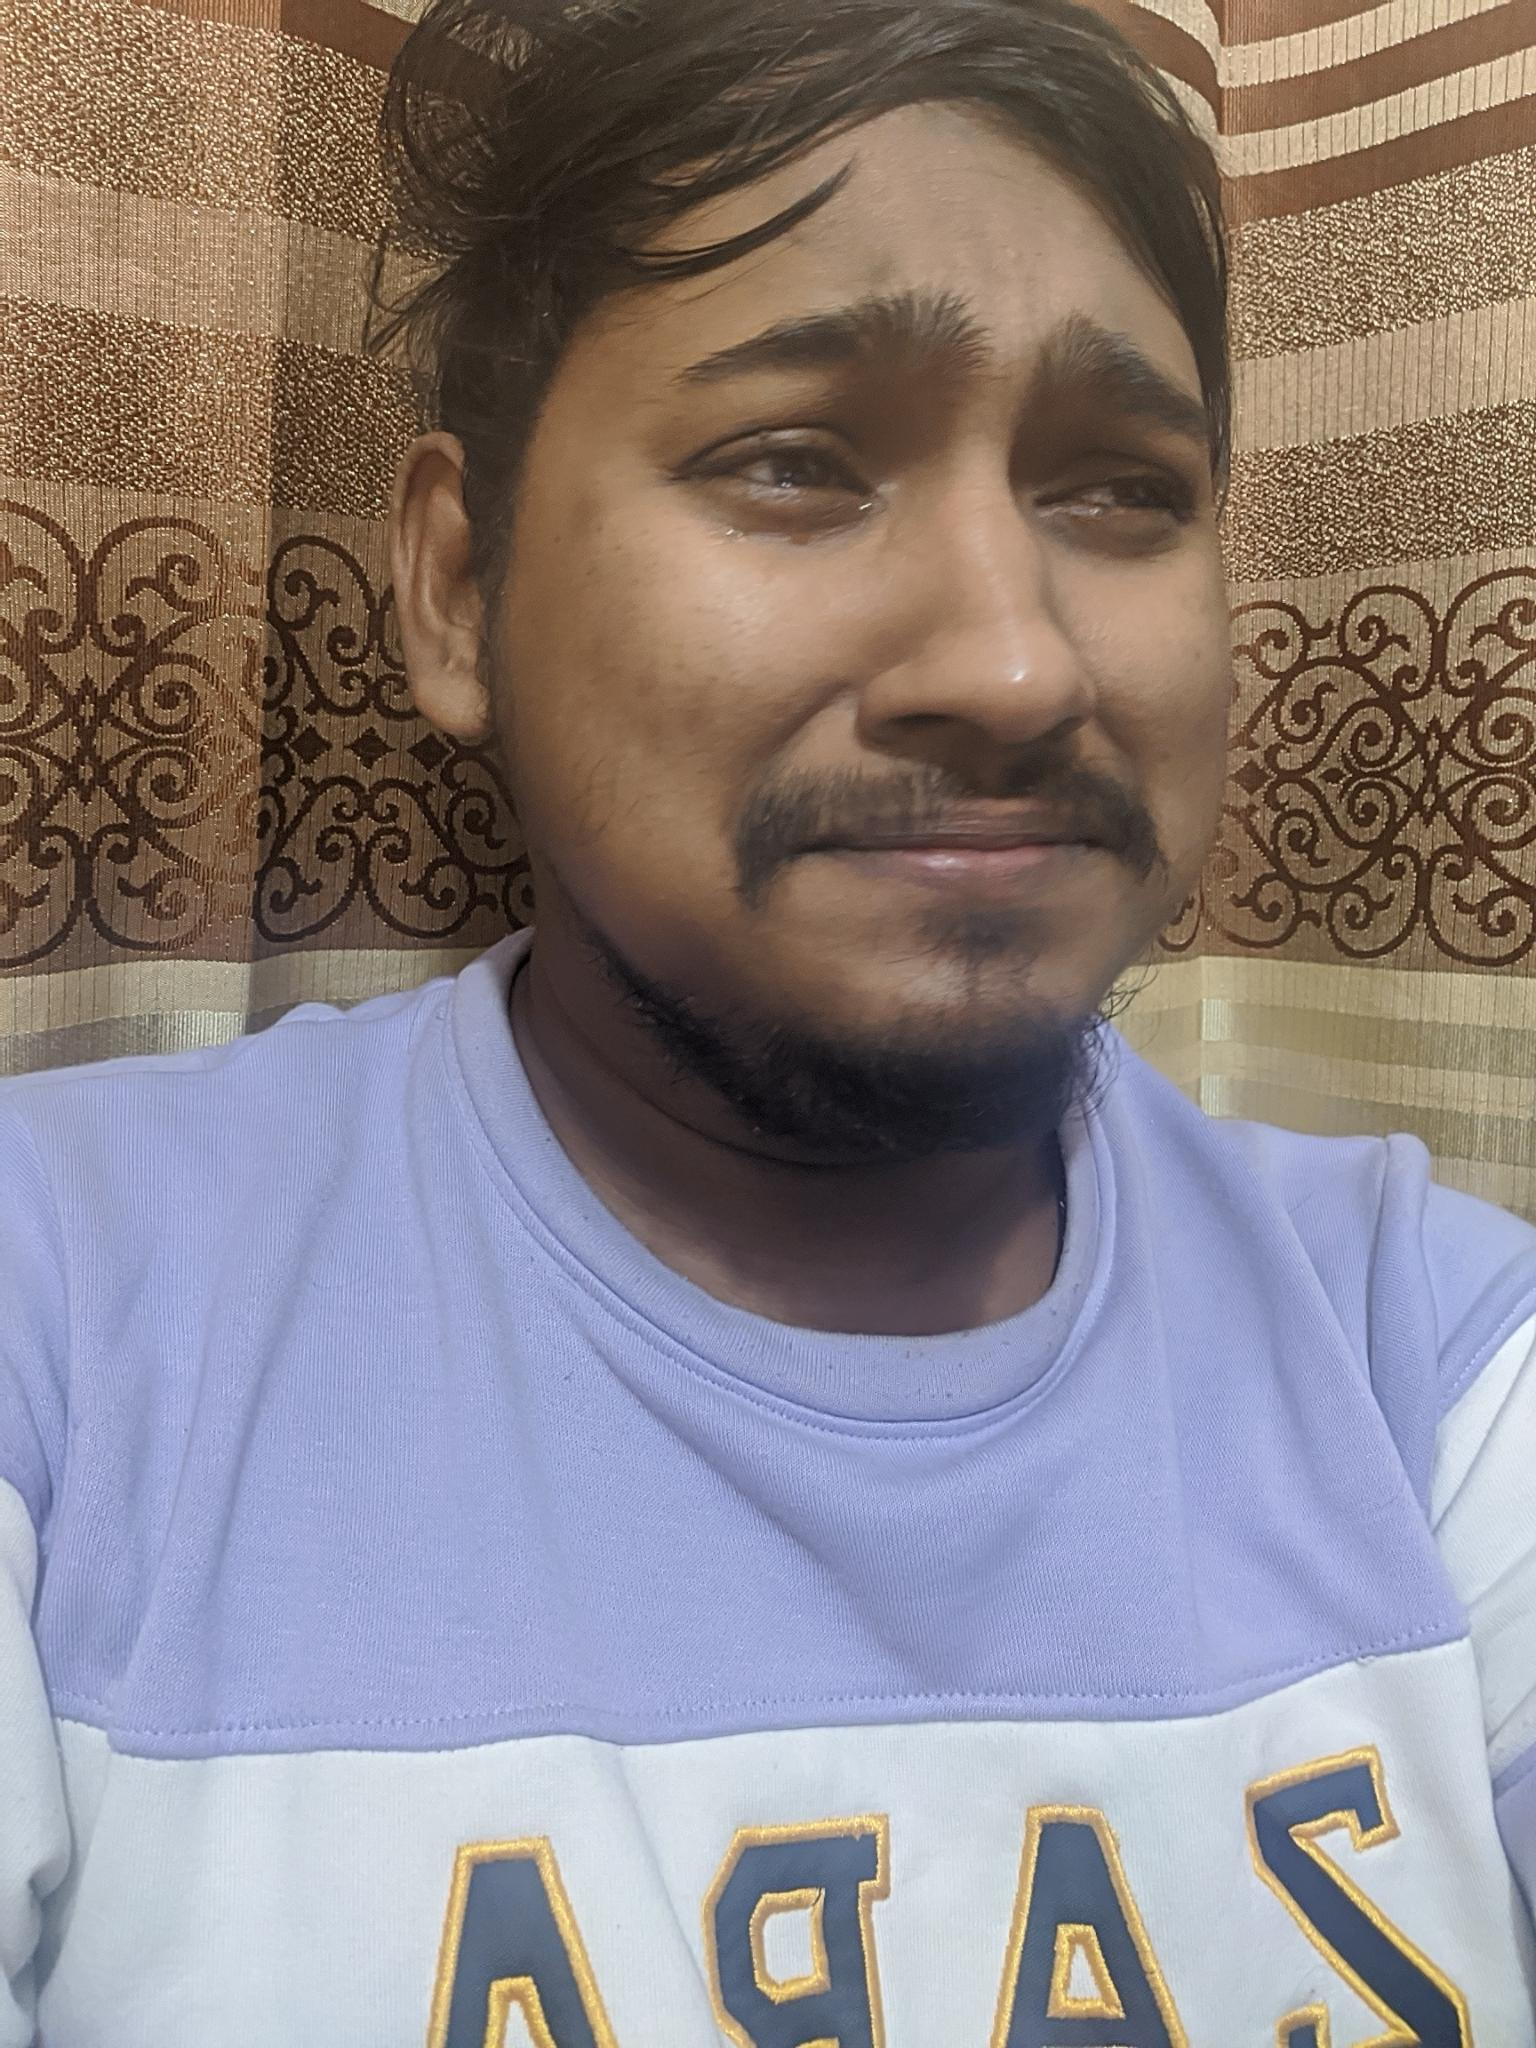Sad: (516, 197, 1297, 1119)
